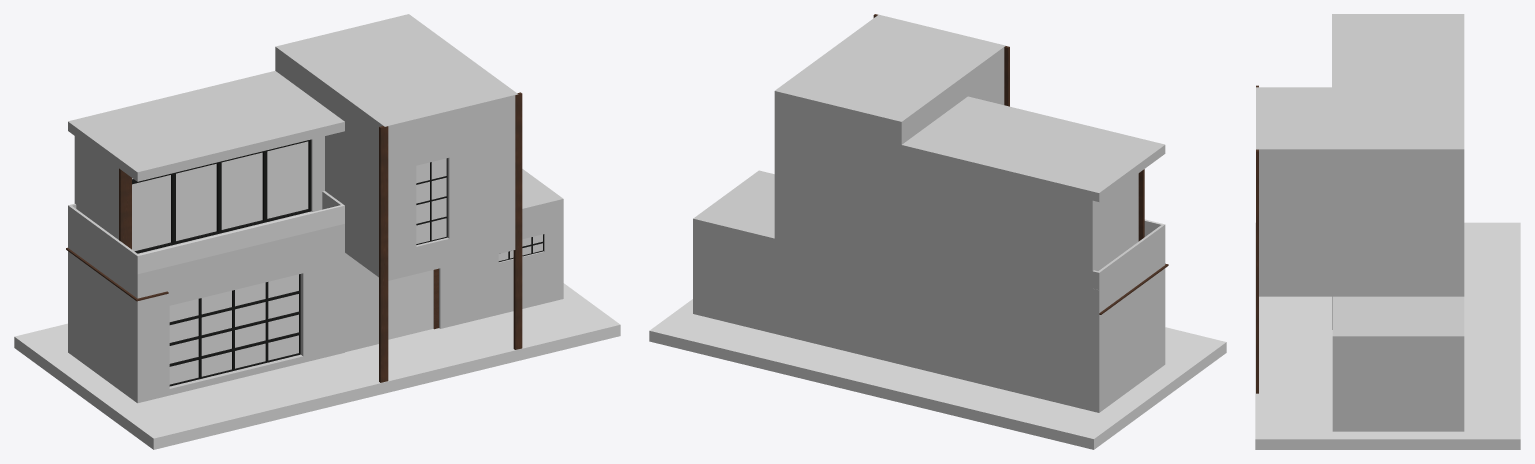
The model's file is House_Model_.dae.
3 renders of one model, left to right at view 1: azimuth 30°, elevation 25°; view 2: azimuth 150°, elevation 25°; view 3: azimuth 270°, elevation 25°, orthographic. The views are drawn at different scales.
Visible parts, largest first — view 1: Cube.007; view 2: Cube.007; view 3: Cube.007.
Part boxes in pixels (x1,y1,x2,y2): Cube.007: [14, 14, 620, 449]; Cube.007: [649, 14, 1226, 449]; Cube.007: [1255, 14, 1520, 449].
Size of the model in its own units: 17.25 by 8.92 by 9.47.
6 materials, 1 textured.
